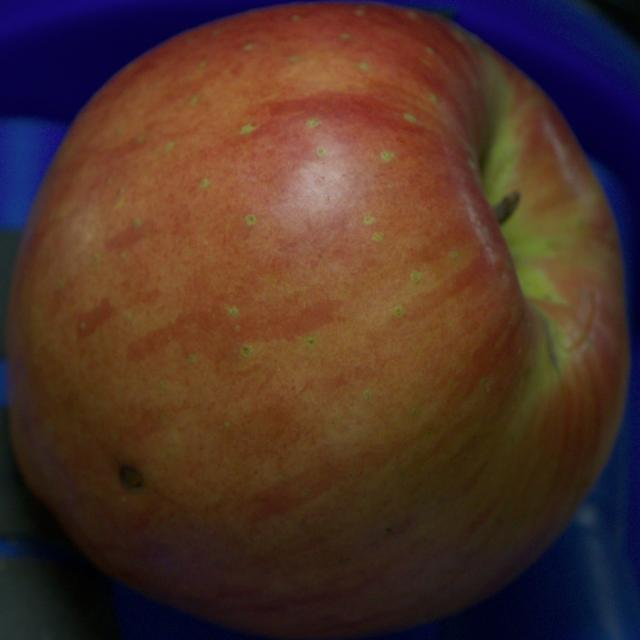apple: (6, 3, 629, 639)
pest: (119, 465, 144, 491)
